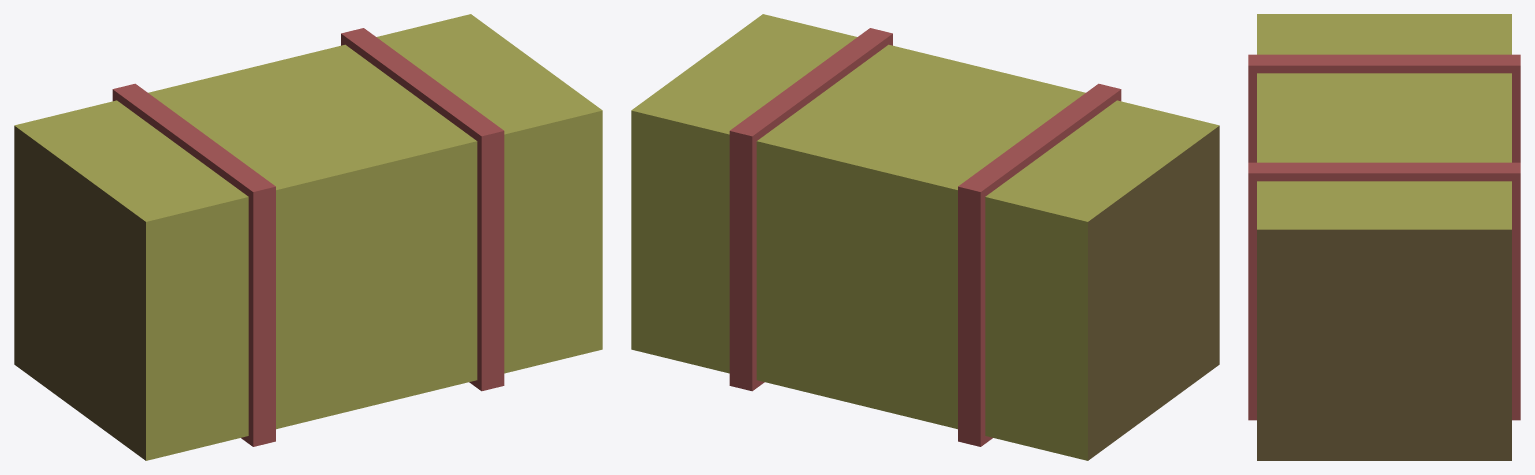
File: MOD_HayBale_sharp.fbx
3 views of the same model, side by side, from view 1: azimuth 30°, elevation 25°; view 2: azimuth 150°, elevation 25°; view 3: azimuth 270°, elevation 25° (orthographic). The views are drawn at different scales.
Parts seen in each view (by area): view 1: HayBaleGreybox_v1; view 2: HayBaleGreybox_v1; view 3: HayBaleGreybox_v1.
Part boxes in pixels (x1,y1,x2,y2): HayBaleGreybox_v1: (14,14,602,460); HayBaleGreybox_v1: (631,14,1219,460); HayBaleGreybox_v1: (1248,14,1520,460).
Size of the model in its own units: 232 by 124 by 124.
